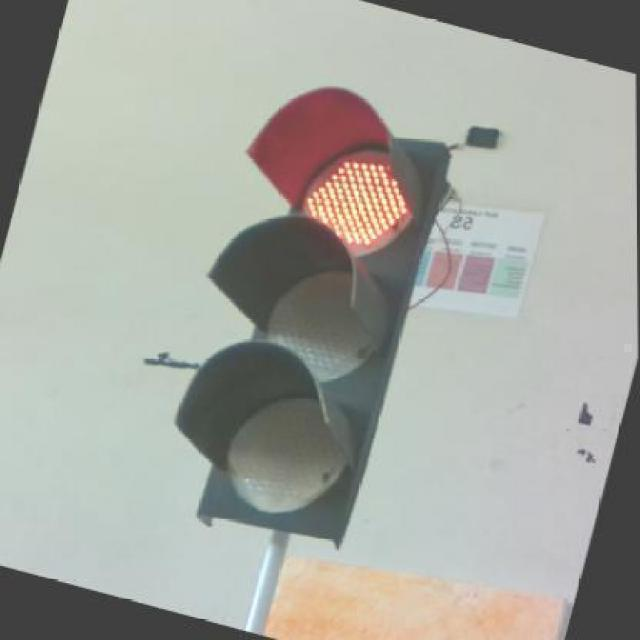red_light: (162, 85, 448, 630)
